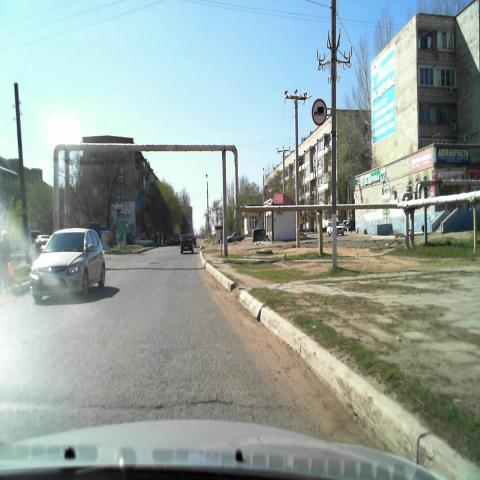3_4_1: (311, 96, 327, 126)
